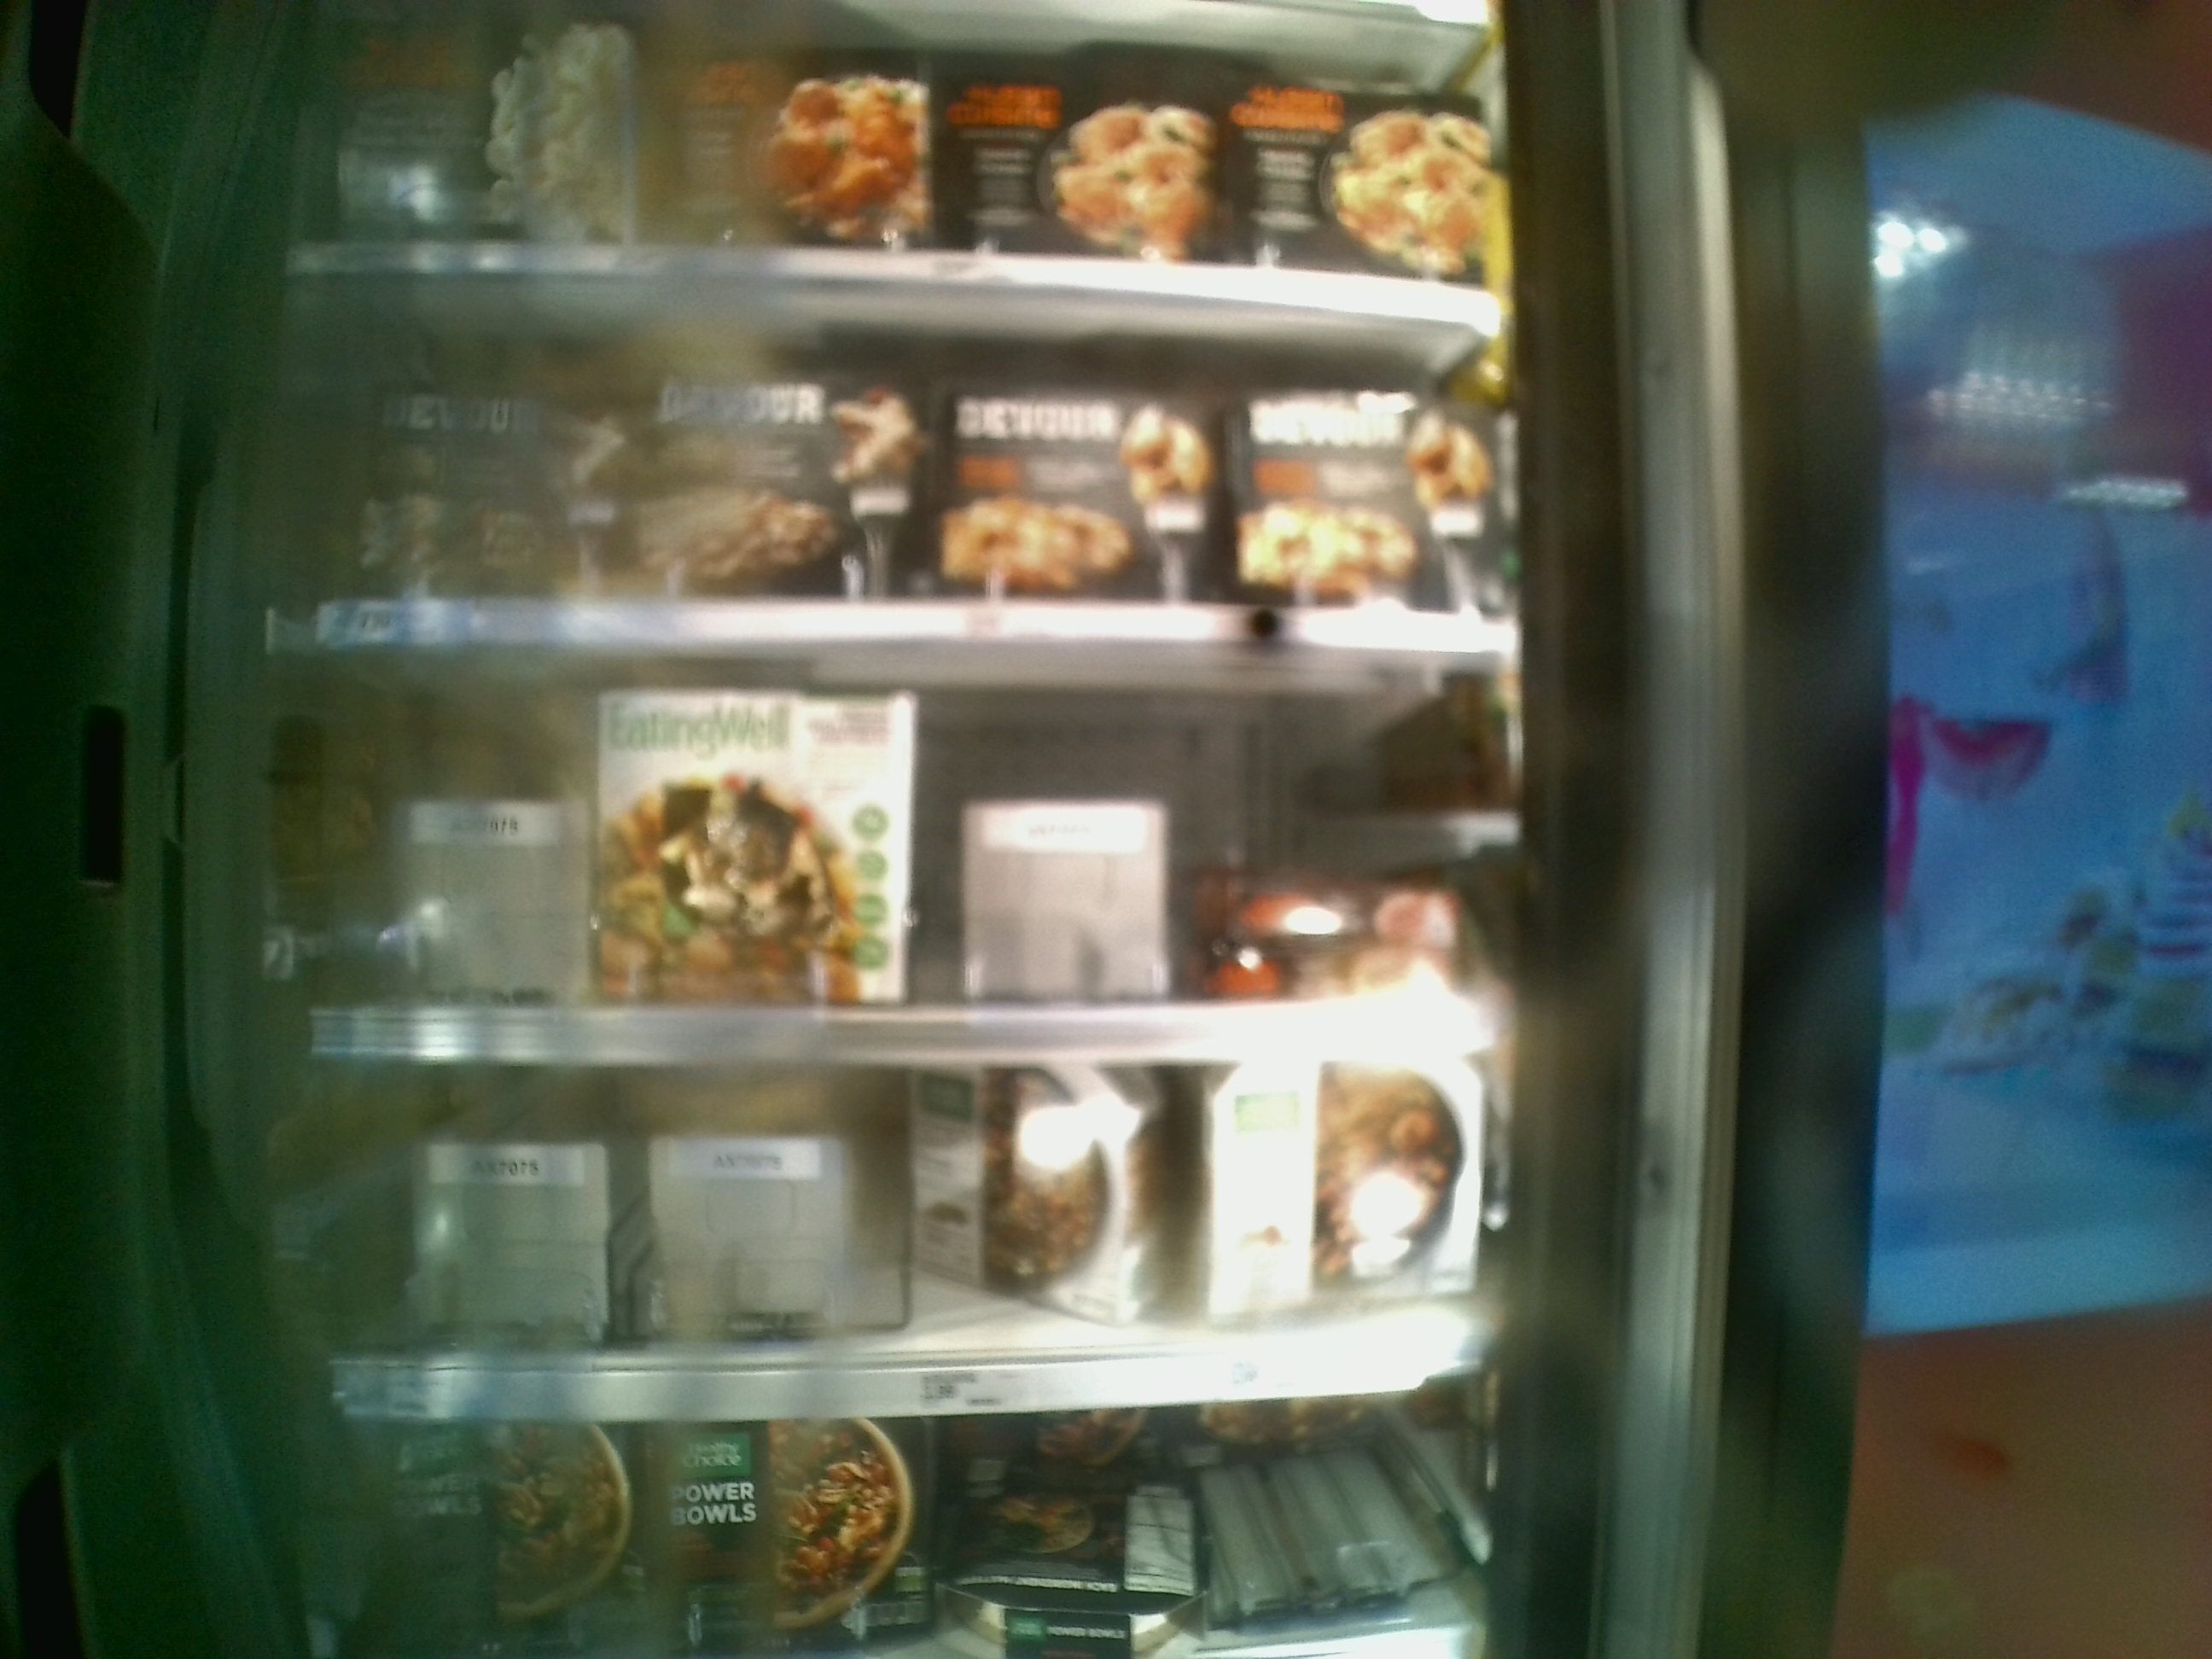shelf: (280, 648, 1493, 1053), (284, 275, 1514, 652), (280, 1054, 1505, 1405)
